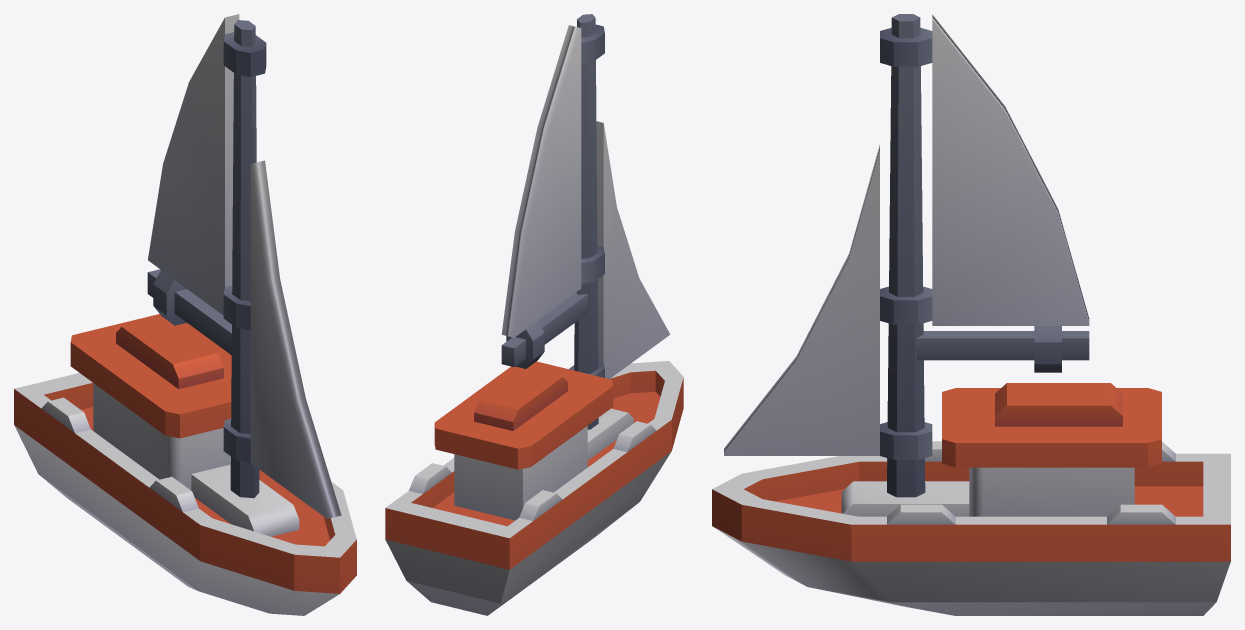
File: sailboatA.glb
The picture shows the model from 3 angles, left to right: view 1: azimuth 30°, elevation 25°; view 2: azimuth 150°, elevation 25°; view 3: azimuth 270°, elevation 25°; orthographic projection. The views are drawn at different scales.
Visible parts, largest first — view 1: sailboatA; view 2: sailboatA; view 3: sailboatA.
Boxes of the visible parts, x1,y1,x2,y2 form: sailboatA: (14,14,356,615); sailboatA: (385,14,683,615); sailboatA: (712,14,1230,615).
Size of the model in its own units: 3.4 by 13 by 10.5.
